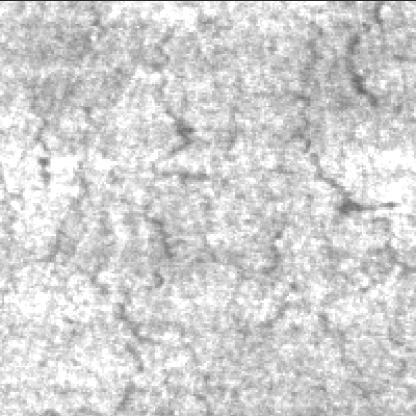crazing: (92, 0, 248, 412), (256, 223, 416, 395), (296, 0, 405, 214)
